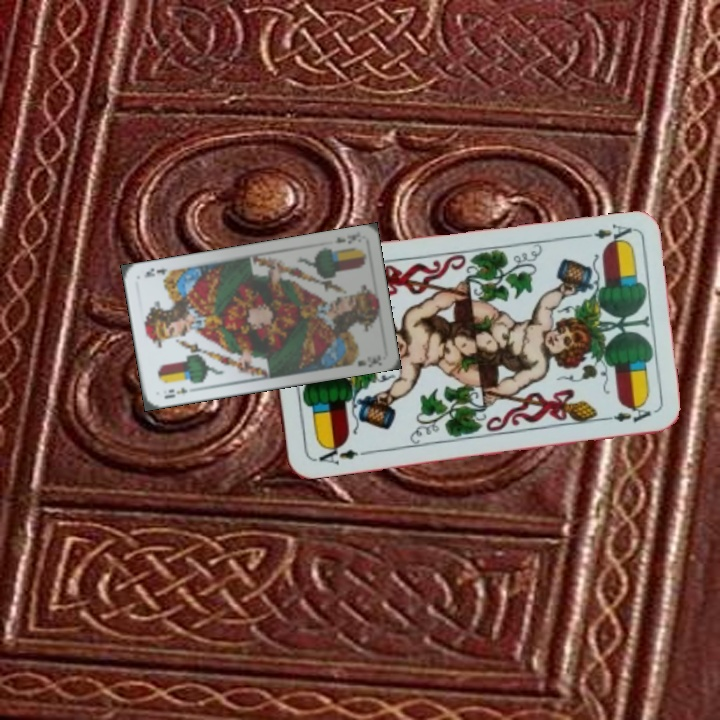EA: (310, 439, 369, 468), (575, 220, 634, 248)
EK: (331, 228, 363, 247), (160, 383, 190, 401)
